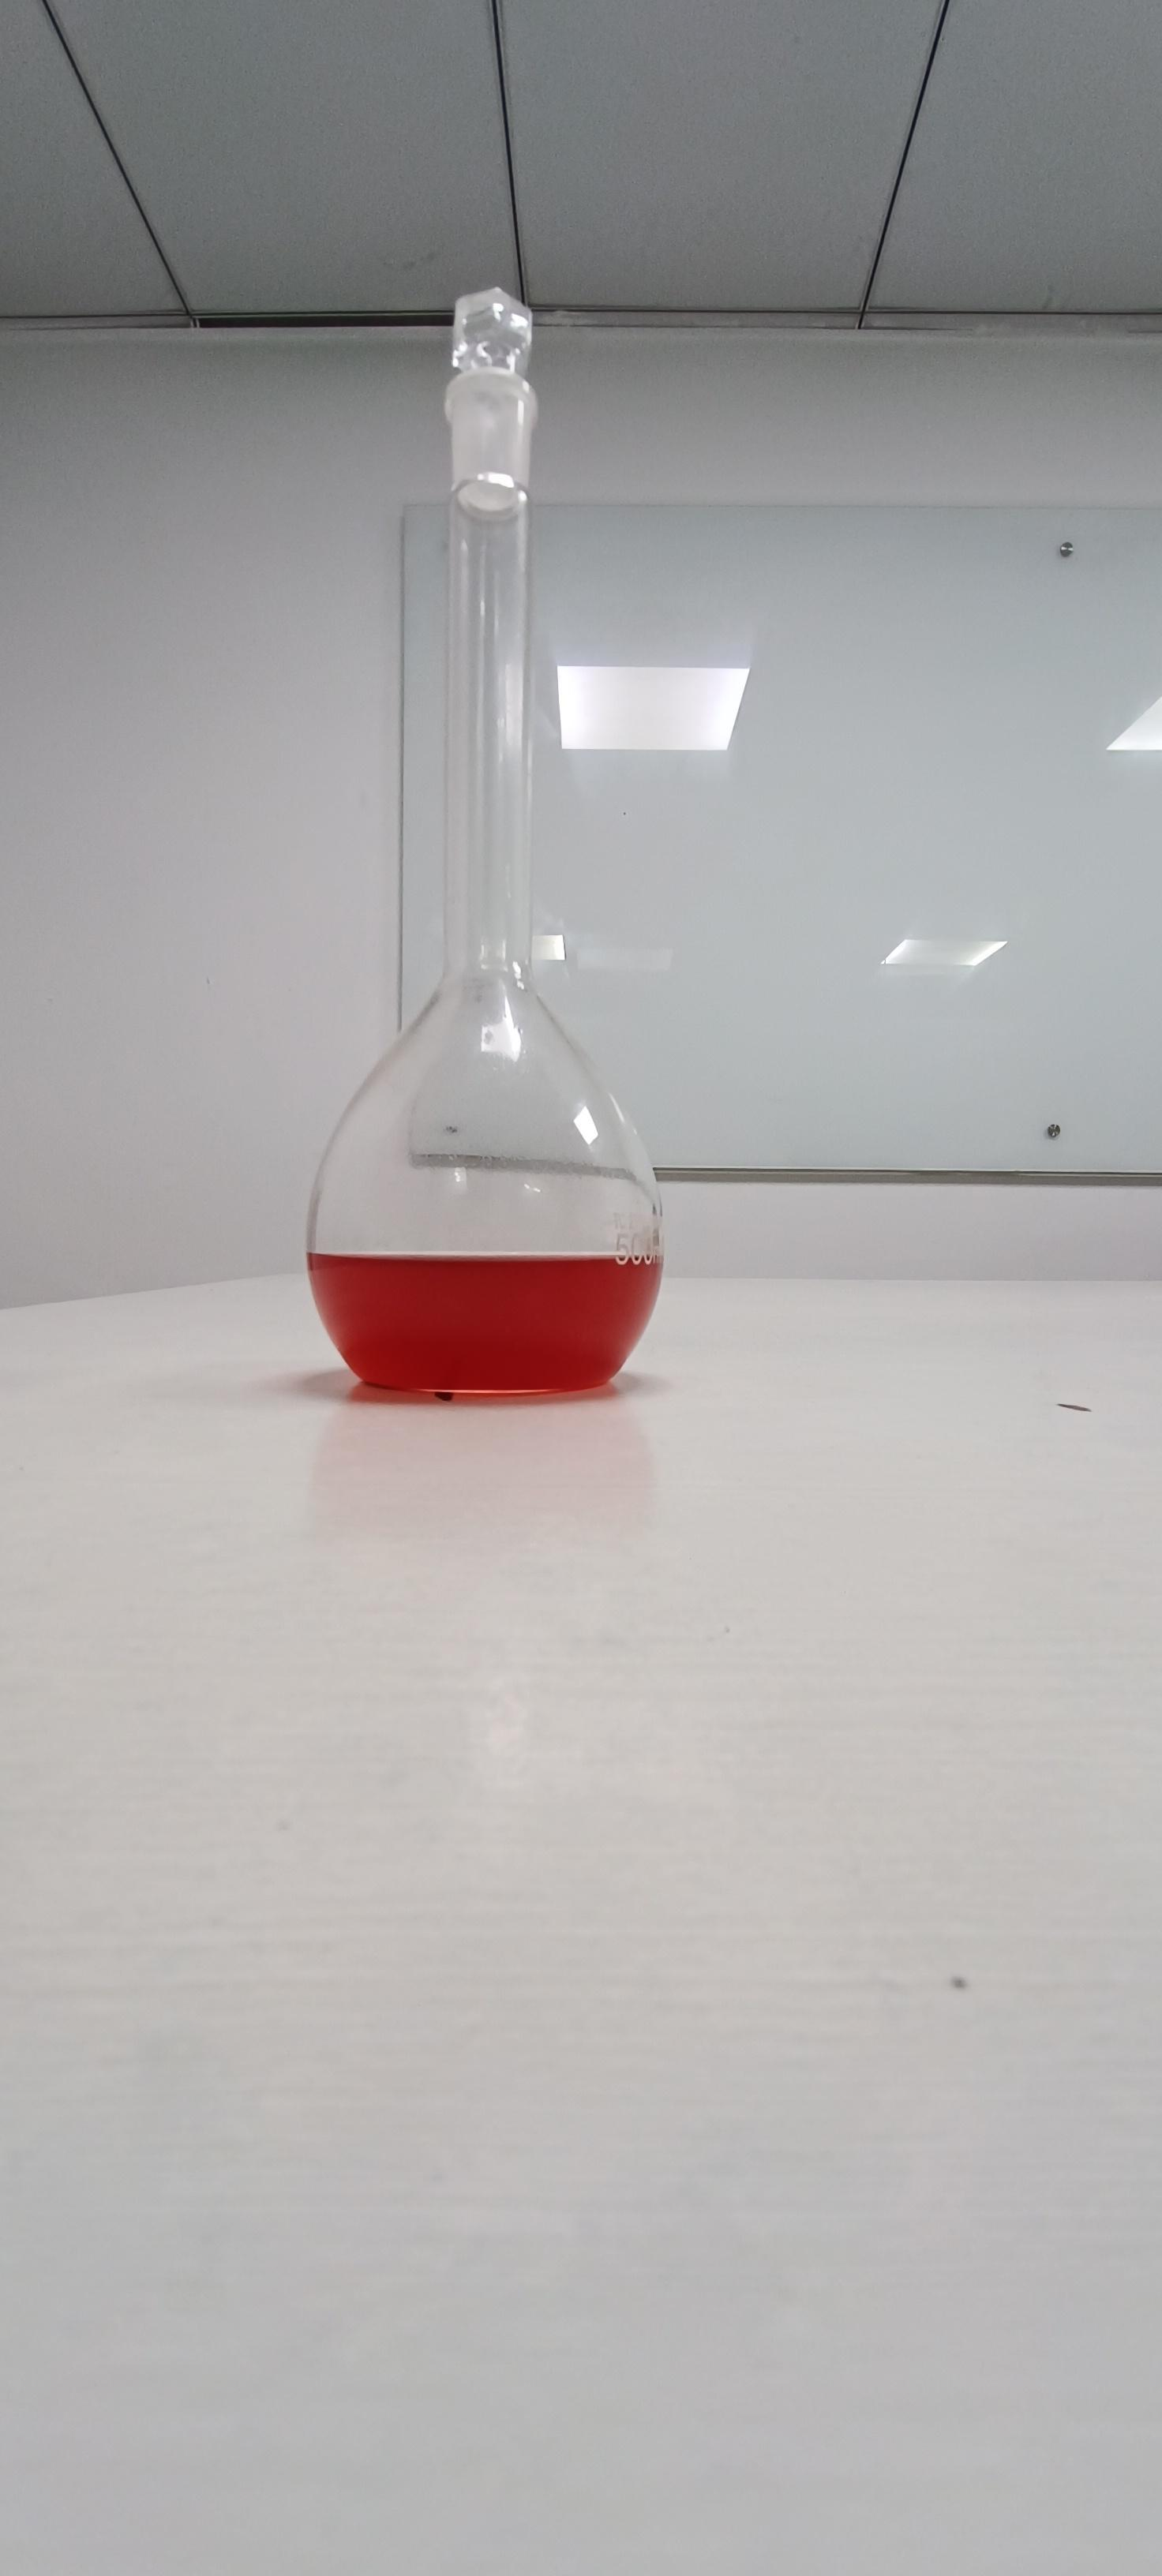Volumetric flask: (313, 290, 680, 1408)
